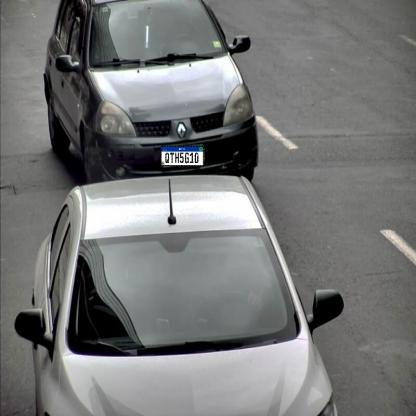PlacaM: (161, 146, 204, 166)
